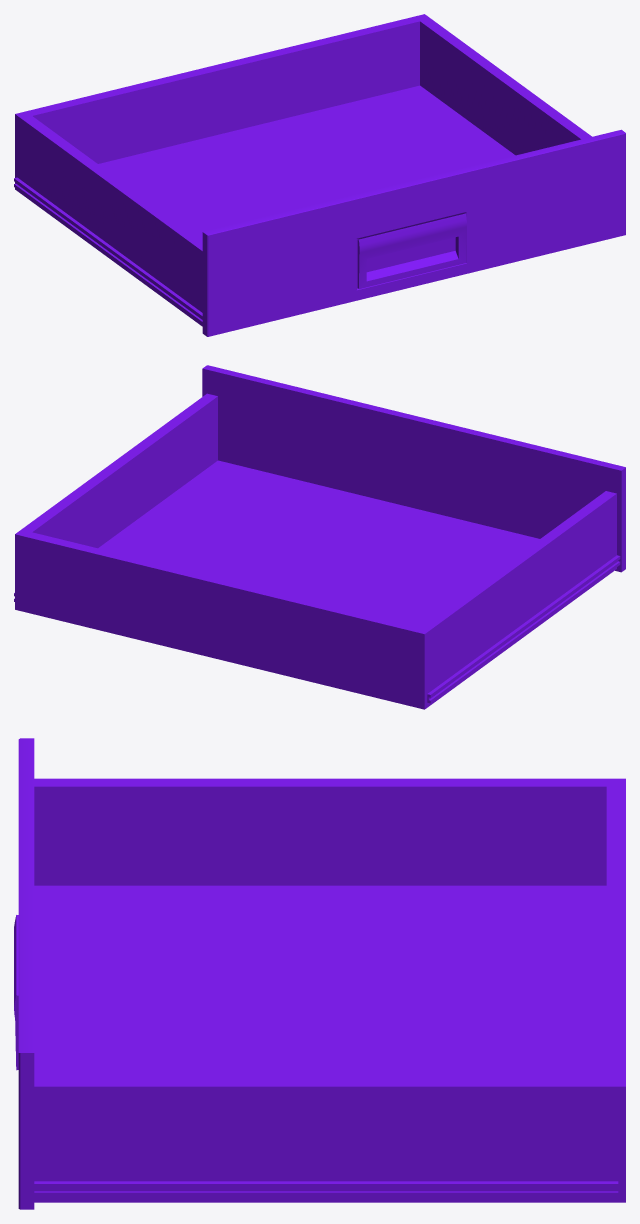
The model's file is Medical_Cart02_Drawer01.fbx.
The picture shows the model from 3 angles, top to bottom: view 1: azimuth 30°, elevation 25°; view 2: azimuth 150°, elevation 25°; view 3: azimuth 270°, elevation 25°; orthographic projection. The views are drawn at different scales.
Parts seen in each view (by area): view 1: SM_Medical_Cart02_Drawer01; view 2: SM_Medical_Cart02_Drawer01; view 3: SM_Medical_Cart02_Drawer01.
Part boxes in pixels (x1,y1,x2,y2): SM_Medical_Cart02_Drawer01: (14, 14, 625, 336); SM_Medical_Cart02_Drawer01: (14, 365, 625, 709); SM_Medical_Cart02_Drawer01: (14, 738, 625, 1209).
Size of the model in its own units: 0.5819 by 0.1349 by 0.478.
